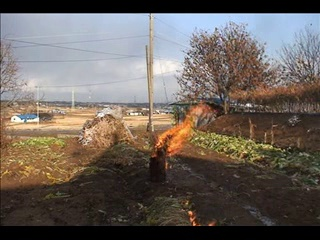fire: (154, 128, 192, 172), (175, 103, 210, 129), (184, 209, 212, 226)
